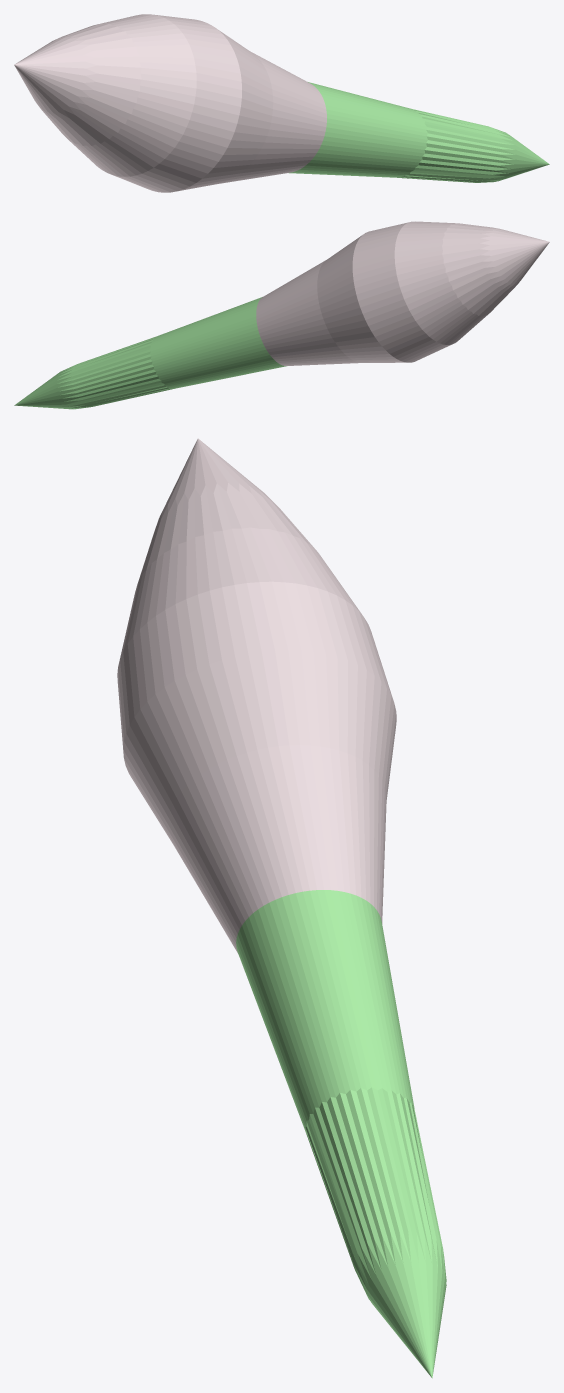
Rendered from Lily_projectile.fbx.
3 views of the same model, one above another, from view 1: azimuth 30°, elevation 25°; view 2: azimuth 150°, elevation 25°; view 3: azimuth 270°, elevation 25° (orthographic). The views are drawn at different scales.
Parts seen in each view (by area): view 1: Lily_bullet; view 2: Lily_bullet; view 3: Lily_bullet.
Boxes of the visible parts, x1=… form: Lily_bullet: x1=14, y1=14, x2=549, y2=192; Lily_bullet: x1=14, y1=221, x2=549, y2=409; Lily_bullet: x1=117, y1=438, x2=446, y2=1378.
Bounding box in the file's own units: 116 × 55.7 × 34.68.
